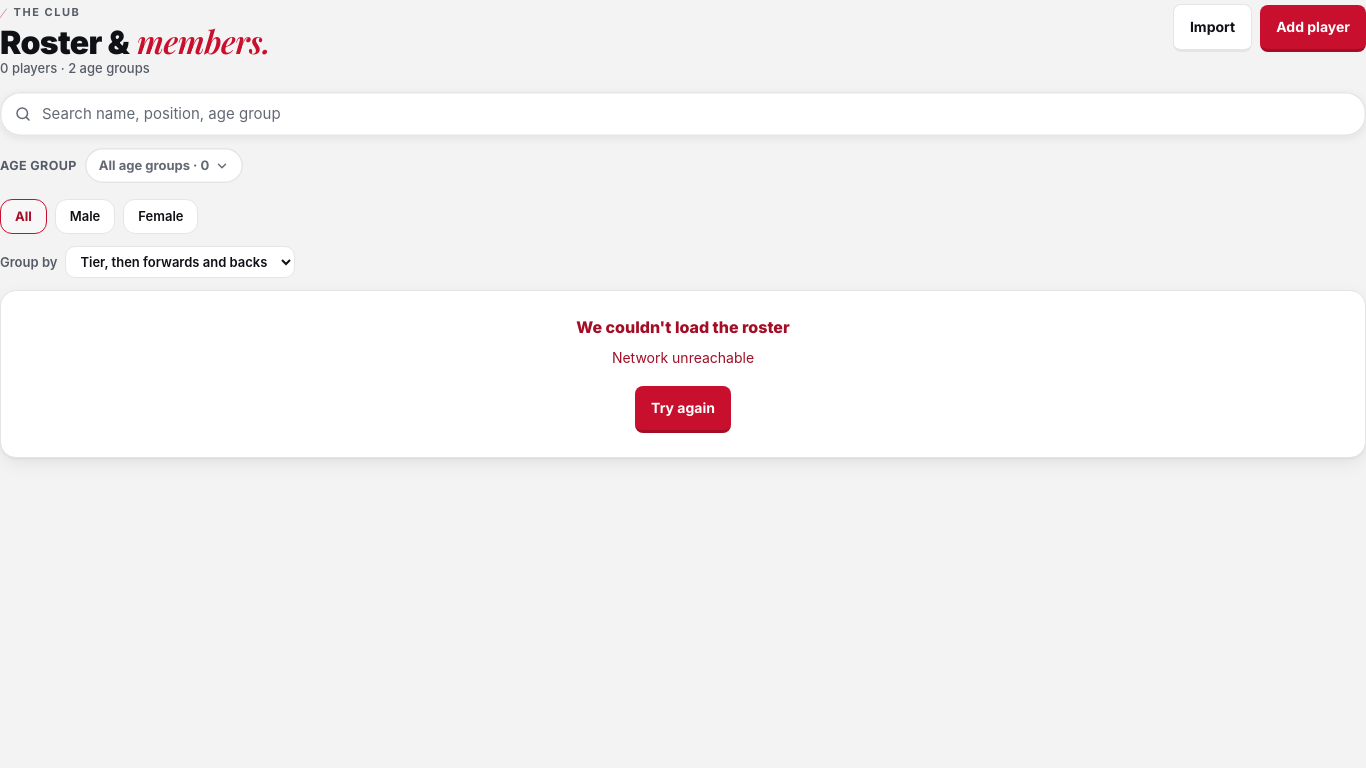
Test: Roster — loading, empty and error states › renders a failed players query in an alert region, with a retry
Expected: the text "Network unreachable" is shown, [612, 349, 754, 366]
Click the button "Try again".
click(683, 409)  # box [635, 386, 731, 433]
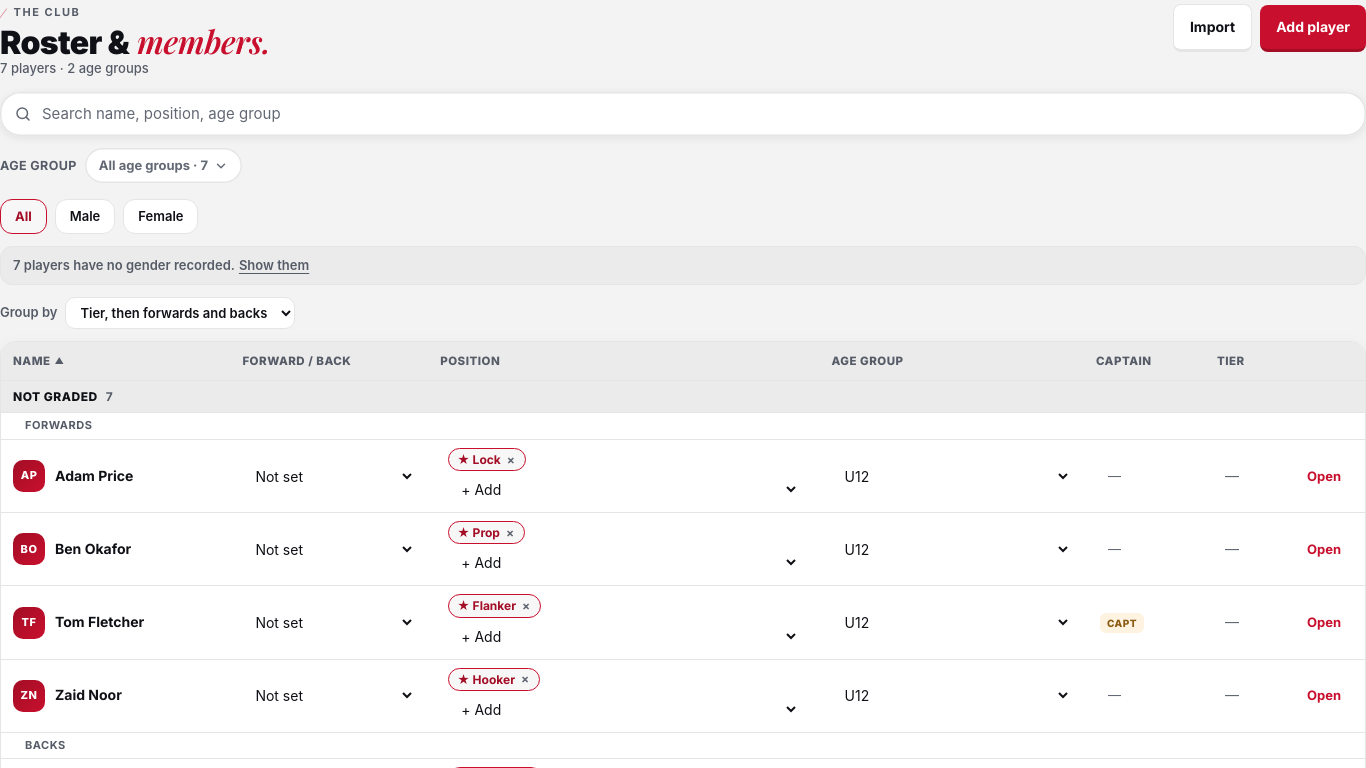
Expected: the text "Tom Fletcher" is shown, [55, 611, 144, 634]
Expected: the message "We couldn't load the roster Network unreachable Try again" is gone
